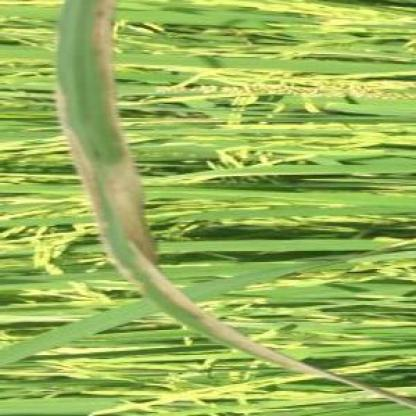Blight: (50, 1, 414, 405)
